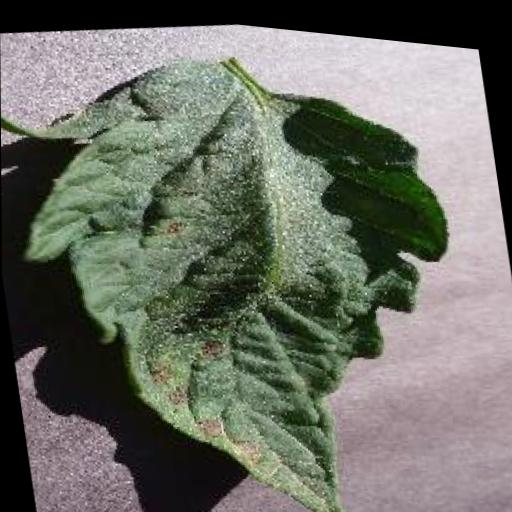Early Blight: (0, 4, 489, 512)
